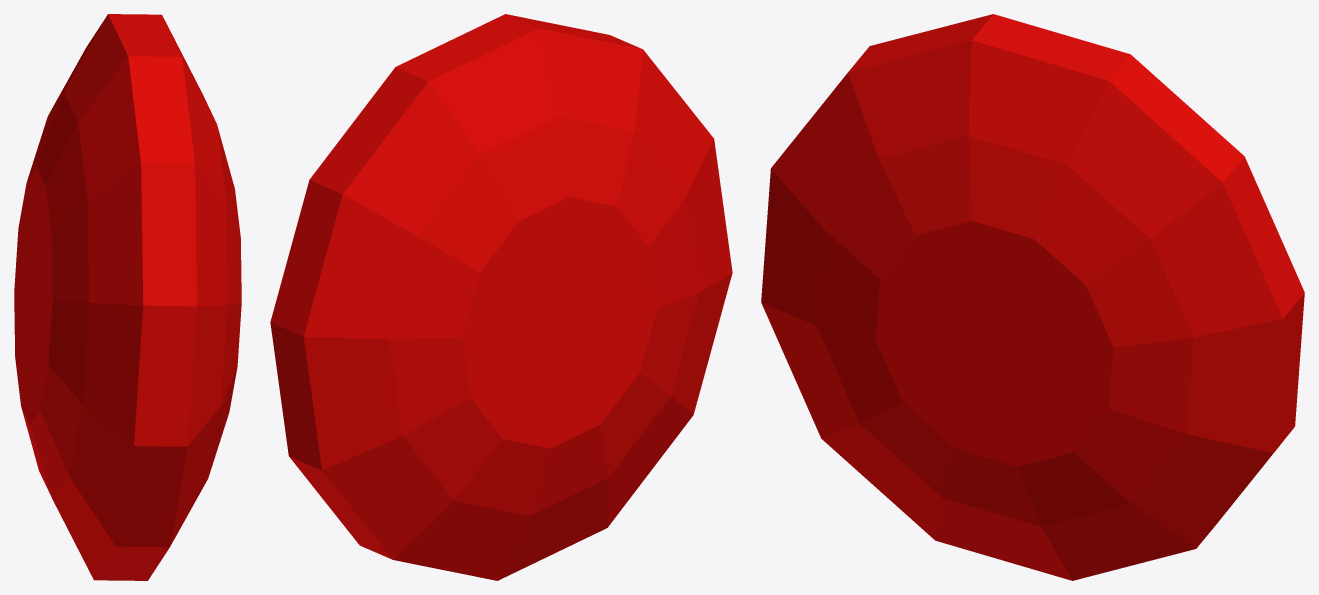
File: ruby.glb
The picture shows the model from 3 angles, left to right: view 1: azimuth 30°, elevation 25°; view 2: azimuth 150°, elevation 25°; view 3: azimuth 270°, elevation 25°; orthographic projection. The views are drawn at different scales.
Parts seen in each view (by area): view 1: Cylinder; view 2: Cylinder; view 3: Cylinder.
Part boxes in pixels (x1,y1,x2,y2): Cylinder: [14, 14, 241, 580]; Cylinder: [270, 14, 732, 580]; Cylinder: [761, 14, 1304, 580].
Bounding box in the file's own units: 0.2574 × 0.5249 × 0.472.
